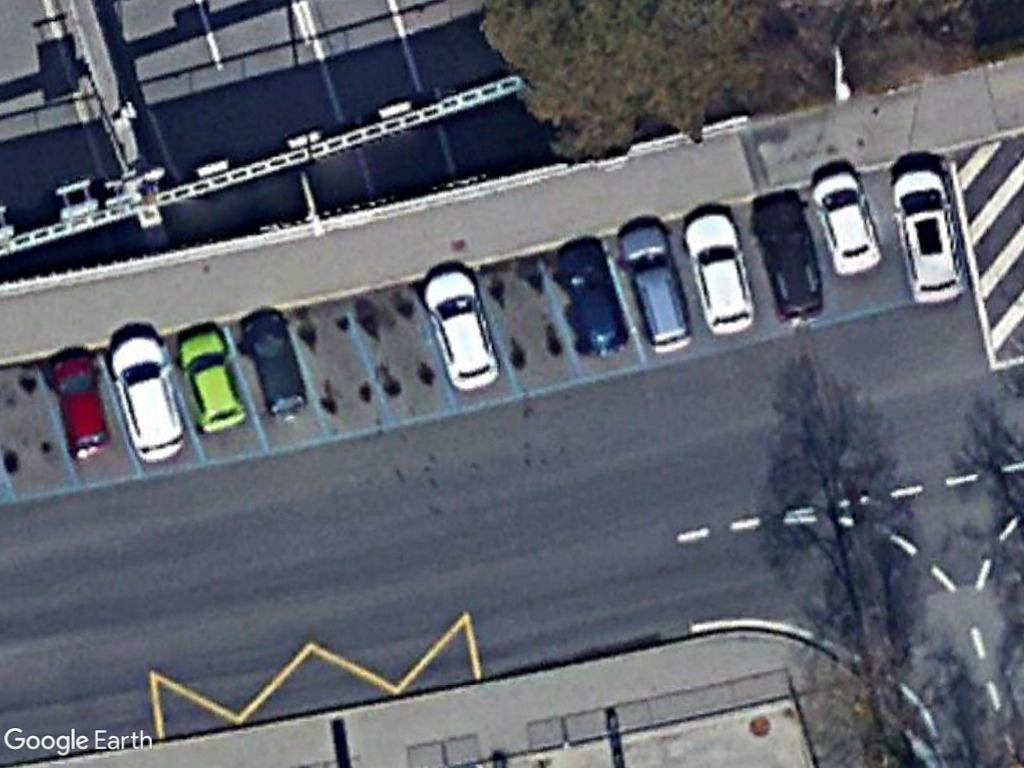car: (105, 329, 188, 466), (890, 164, 967, 310), (617, 222, 695, 357), (420, 267, 501, 394), (556, 240, 632, 362), (687, 207, 758, 336), (809, 166, 889, 277), (175, 325, 251, 434), (242, 308, 311, 424), (49, 348, 115, 464)
